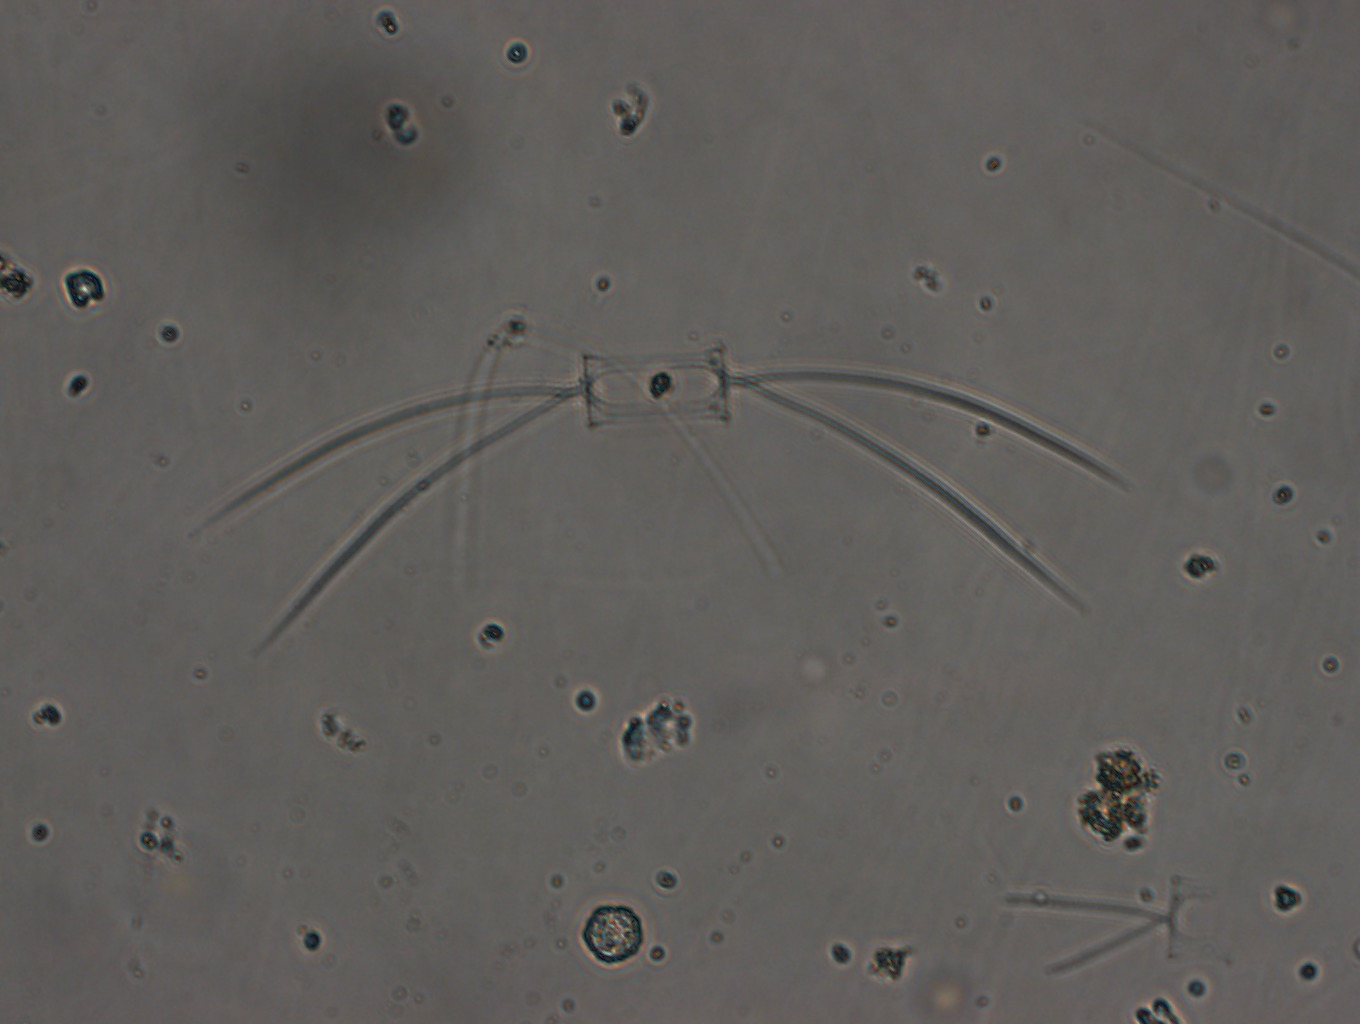chaetoceros: (197, 336, 1137, 648)
